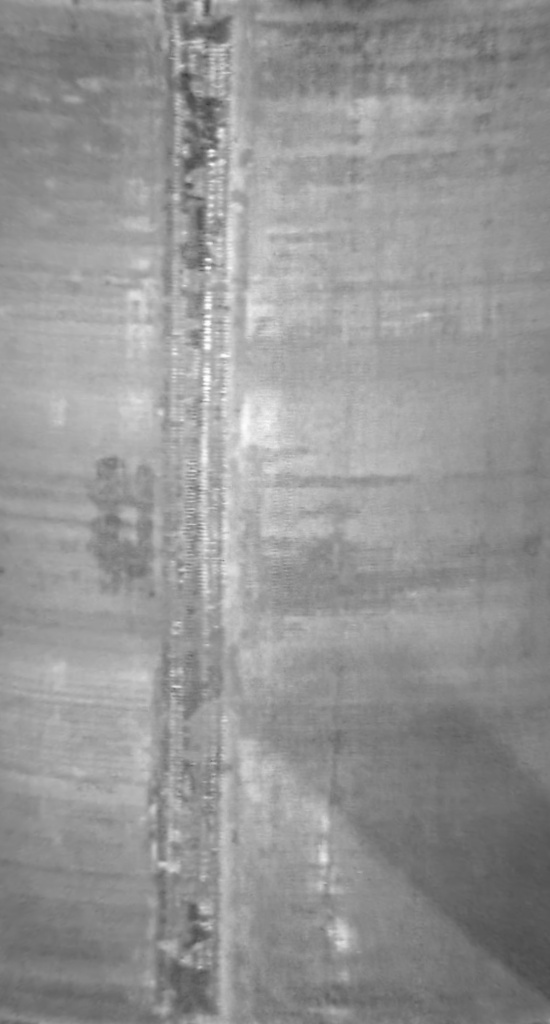splice: (146, 1, 243, 1022)
